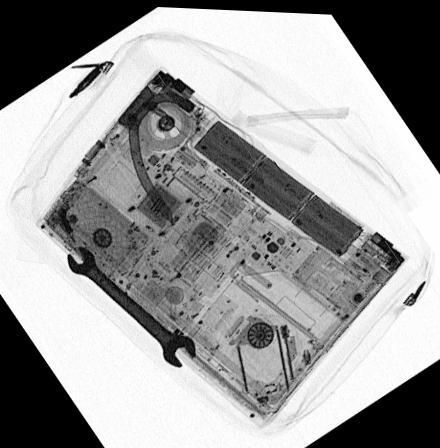Wrench: (65, 245, 197, 366)
